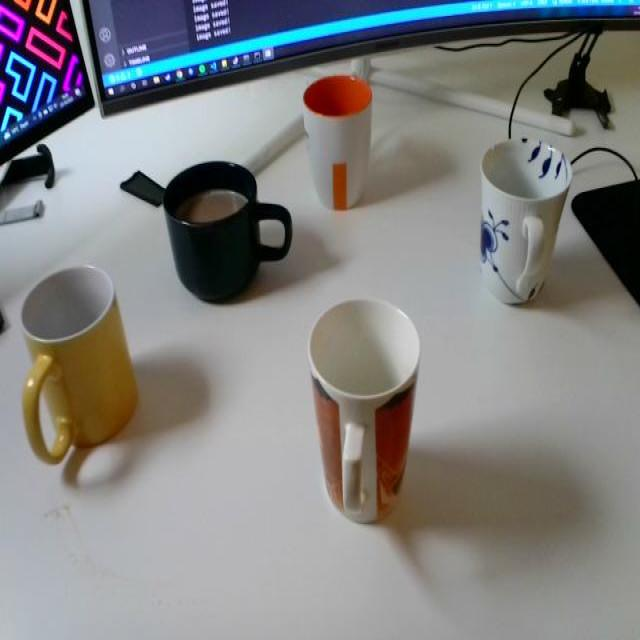cup: (298, 285, 428, 542), (15, 257, 143, 470), (158, 150, 294, 303), (478, 125, 574, 315), (293, 67, 382, 220)
